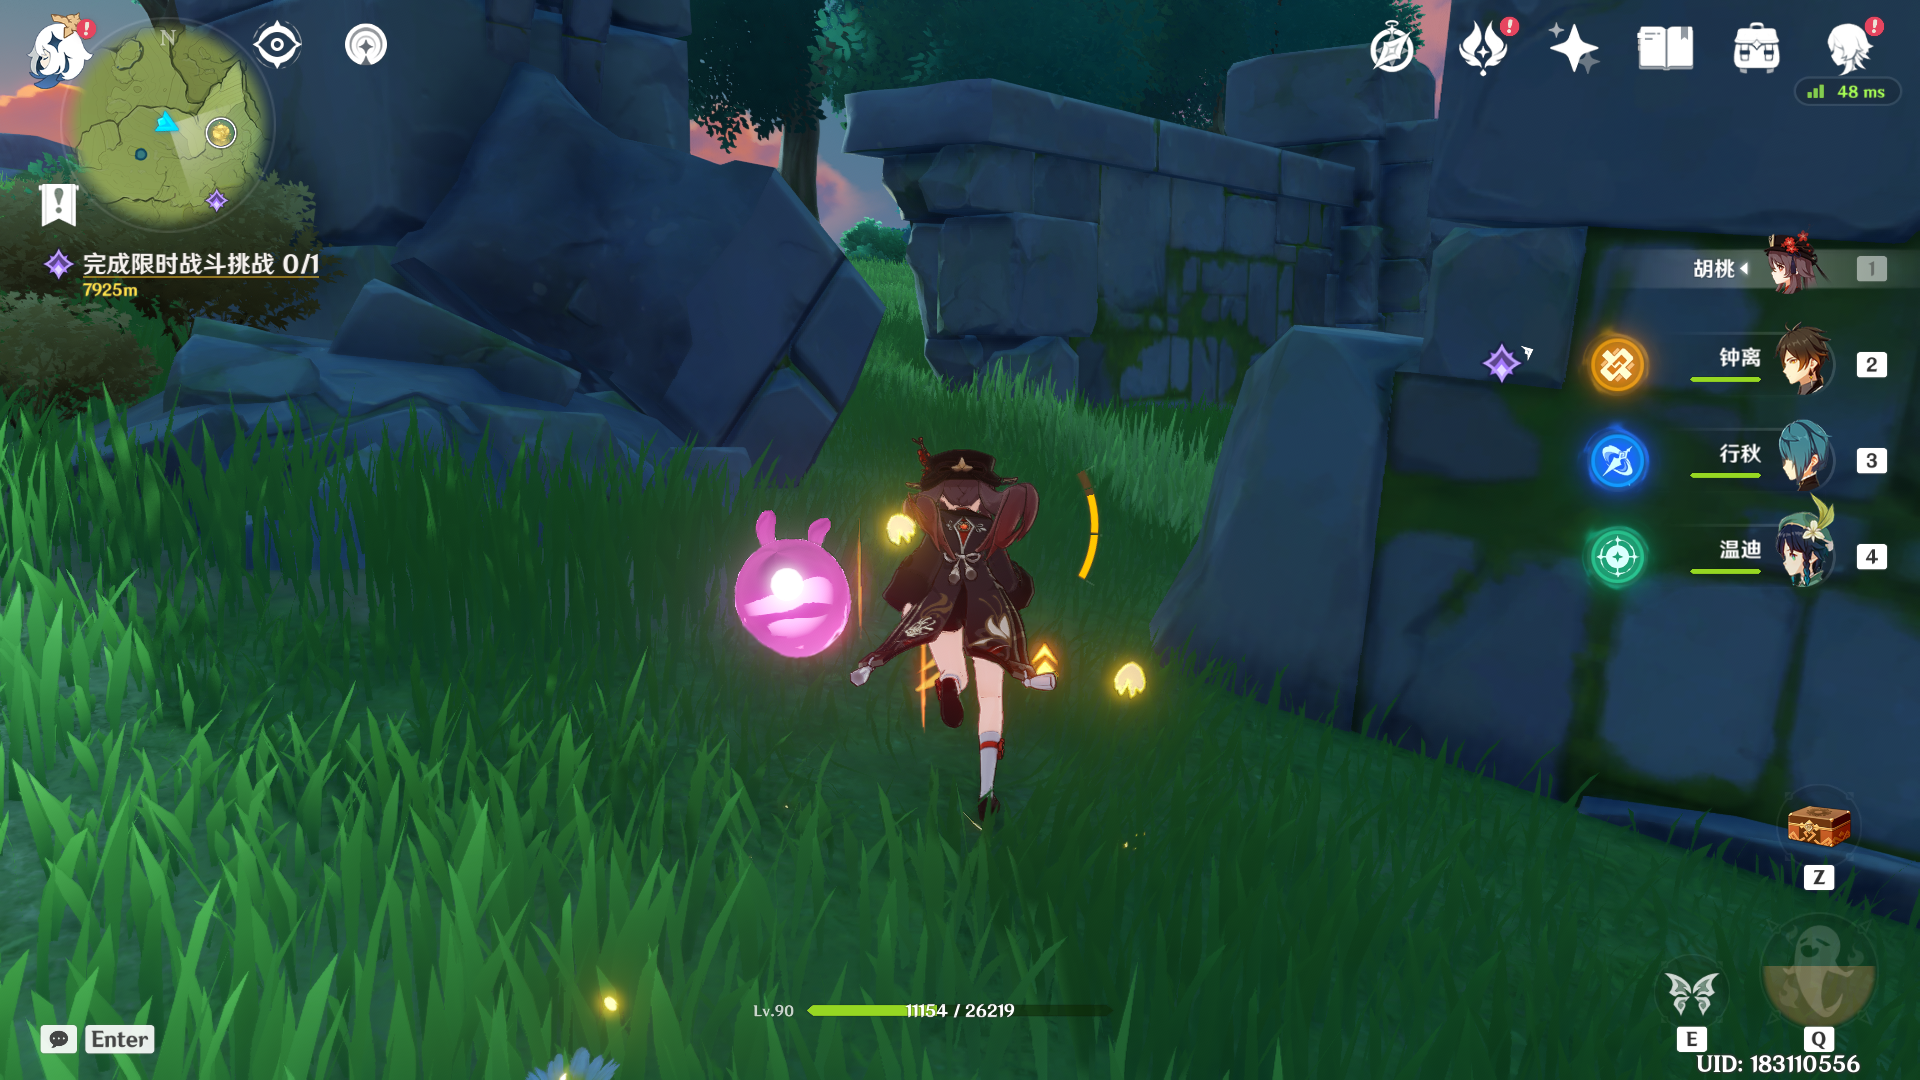character: (804, 436, 1138, 845)
